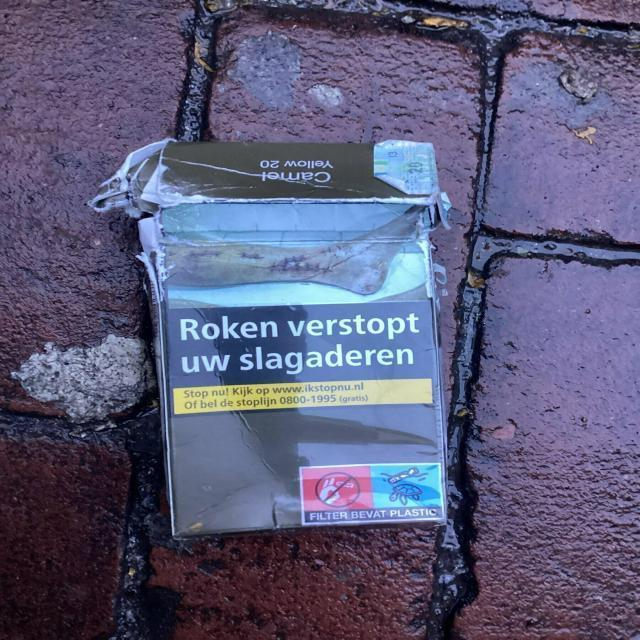Paper: (88, 130, 457, 544)
